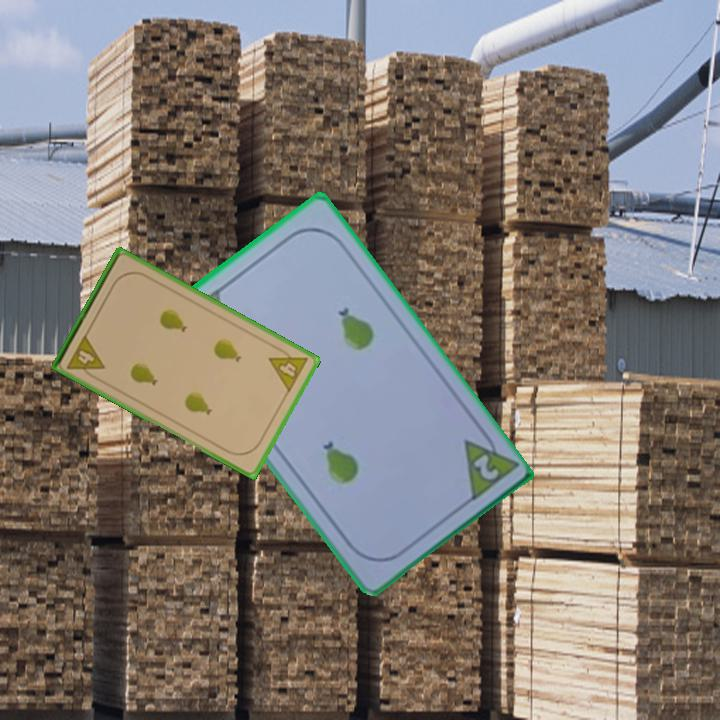2p: (468, 449, 502, 484)
4p: (265, 342, 311, 395), (63, 331, 108, 383)
